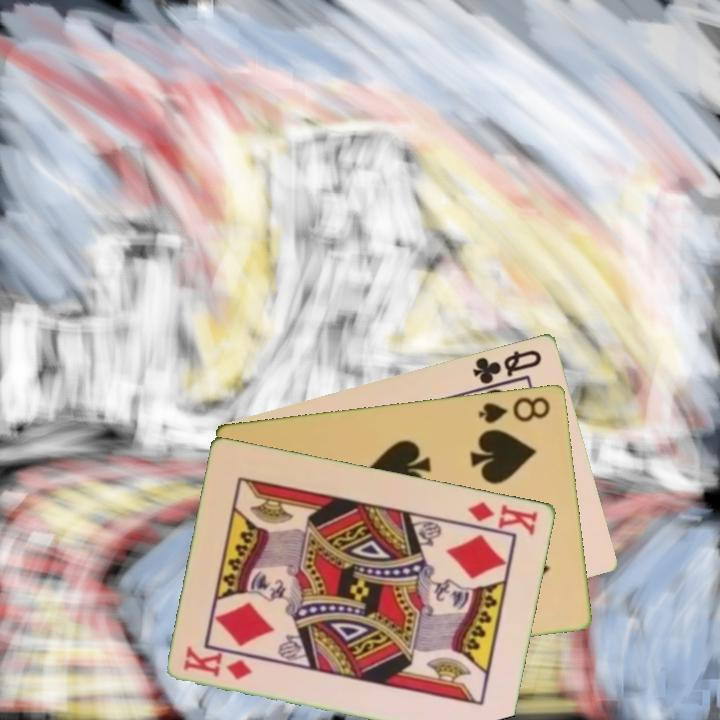8s: (475, 392, 554, 426)
Kd: (465, 497, 541, 538), (180, 643, 256, 682)
Qc: (469, 345, 545, 392)
